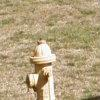Hydrant: (20, 28, 60, 100)
